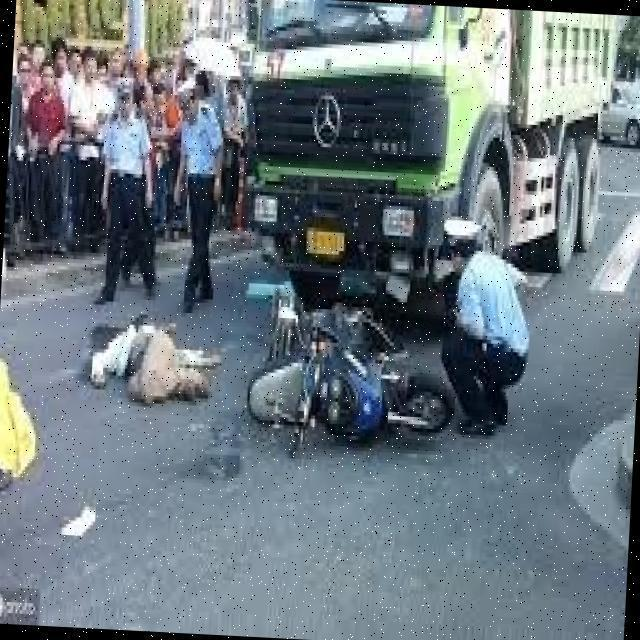accident: (235, 258, 466, 489)
